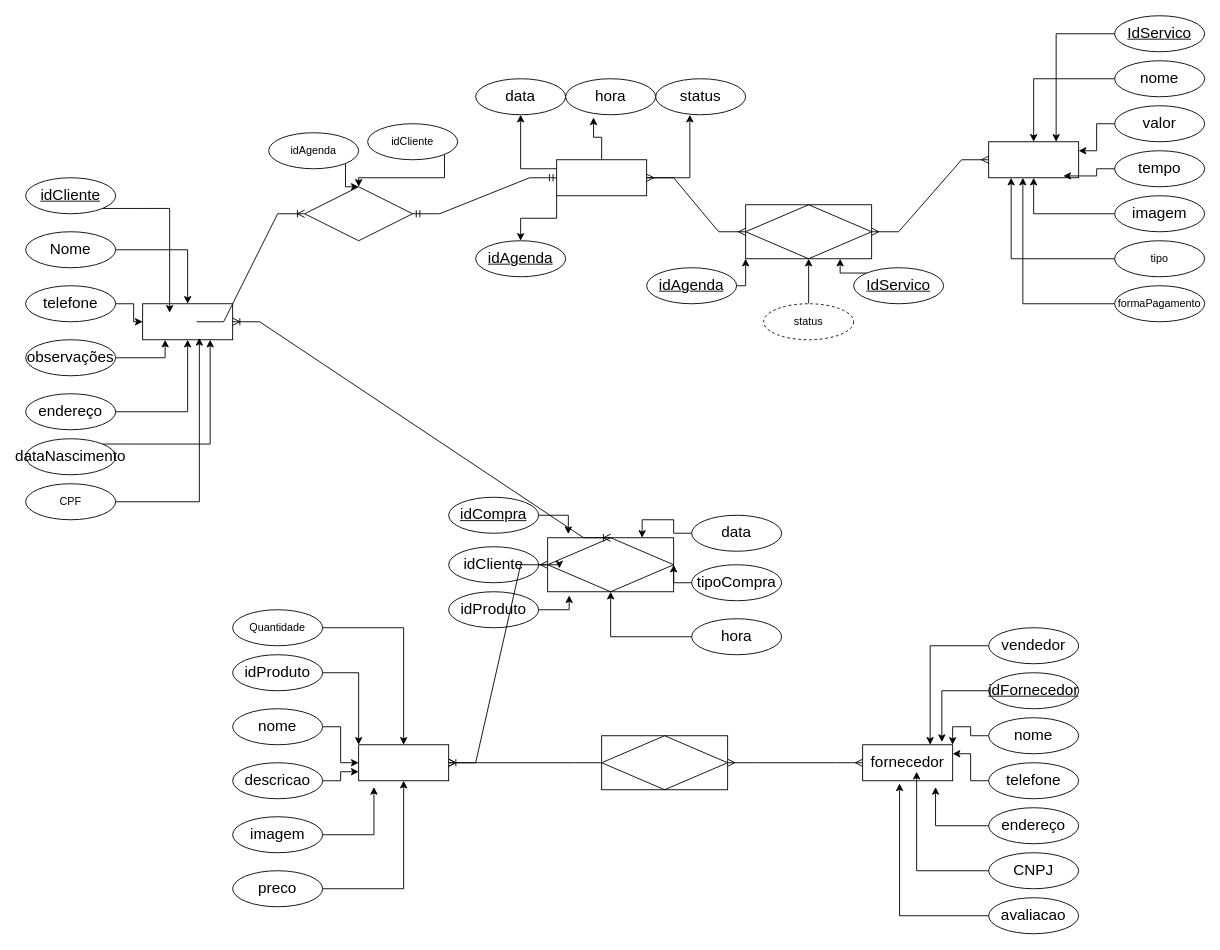
Some shapes in this 1220 by 950 pixel diagram are drawn without their labels. Here are the shapes that lost their labels. From the top down, the box of each, then its label:
(556, 159, 647, 196): agendamento
(988, 141, 1079, 178): serviço
(304, 186, 413, 241): faz
(745, 204, 872, 259): prestar
(142, 303, 233, 340): cliente
(547, 537, 674, 592): compra
(358, 744, 449, 781): produto
(601, 735, 728, 790): vende
